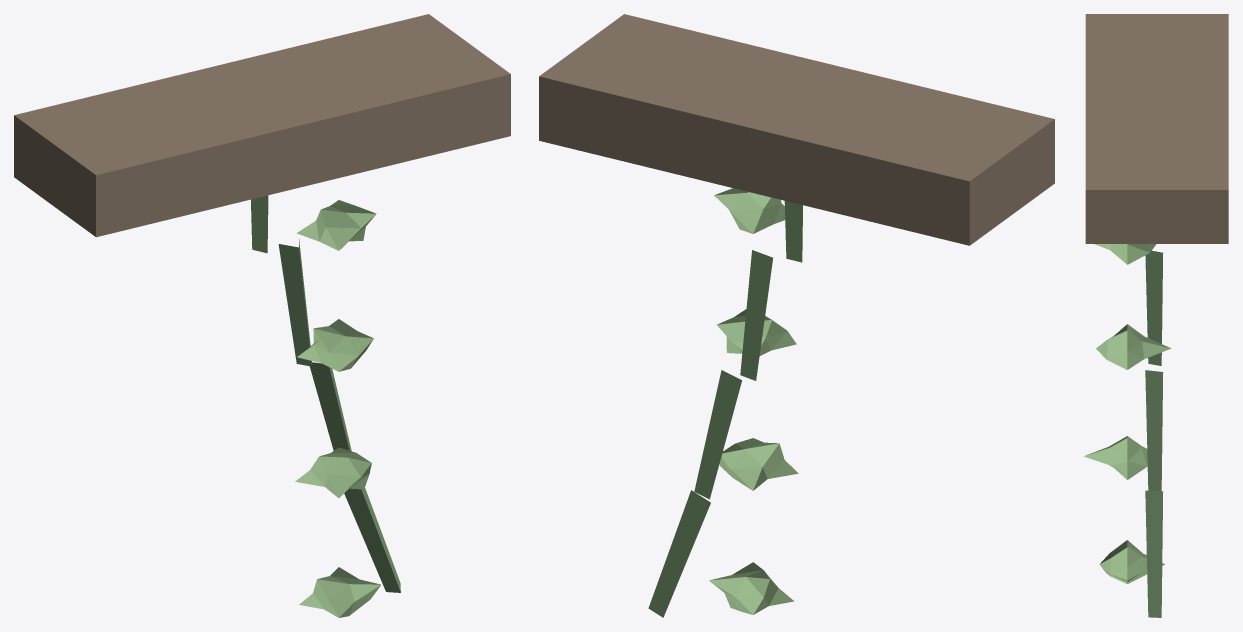
Rendered from vine_v10.glb.
3 renders of one model, left to right at view 1: azimuth 30°, elevation 25°; view 2: azimuth 150°, elevation 25°; view 3: azimuth 270°, elevation 25°, orthographic. The views are drawn at different scales.
Visible parts, largest first — view 1: lod0; view 2: lod0; view 3: lod0.
Boxes of the visible parts, x1,y1,x2,y2 form: lod0: (14,14,510,617); lod0: (539,14,1054,617); lod0: (1084,14,1228,617).
Size of what is drawn, in the model's own units: 0.7 by 0.8546 by 0.2441.
